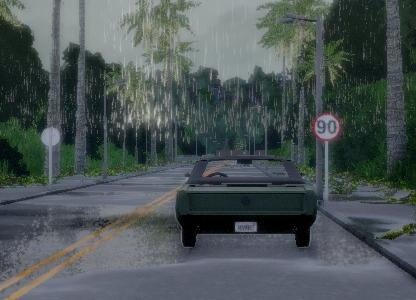Speed_90: (310, 110, 343, 145)
